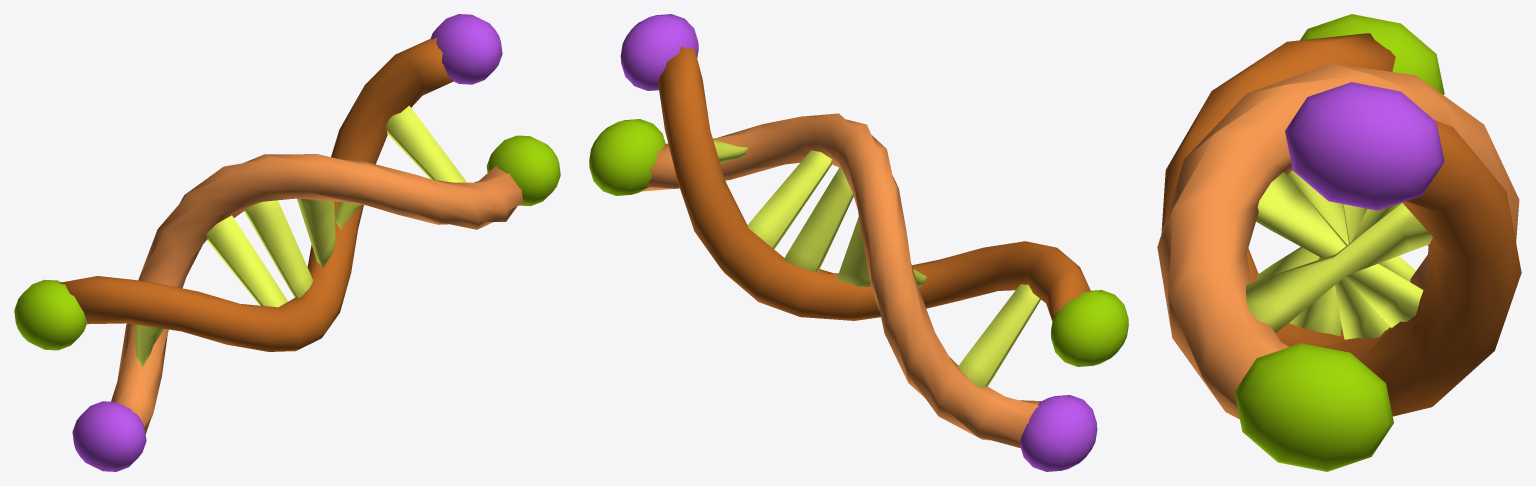
File: market2.fbx
The picture shows the model from 3 angles, left to right: view 1: azimuth 30°, elevation 25°; view 2: azimuth 150°, elevation 25°; view 3: azimuth 270°, elevation 25°; orthographic projection. The views are drawn at different scales.
Visible parts, largest first — view 1: market2; view 2: market2; view 3: market2.
Part boxes in pixels (left/top/right/bottom): market2: left=14, top=14, right=560, bottom=471; market2: left=589, top=14, right=1128, bottom=471; market2: left=1157, top=14, right=1521, bottom=471.
Bounding box in the file's own units: 108 × 70.04 × 36.25.
